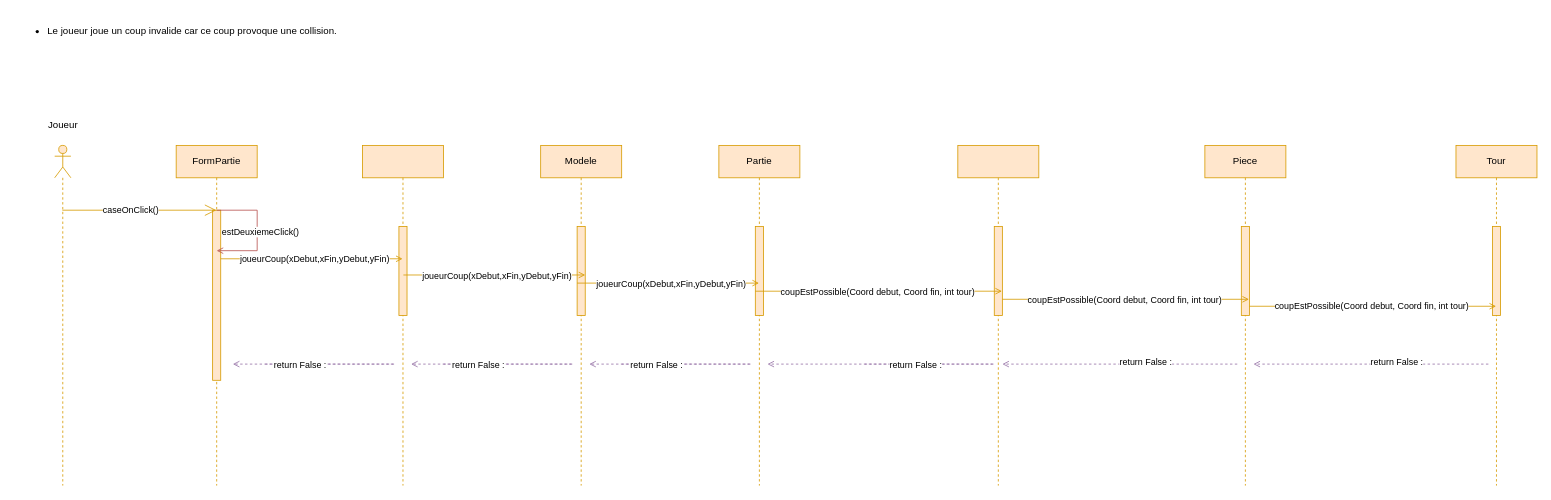
The diagram is 1551 pixels wide and 500 high, and some of its shapes have lost their labels. The centre of each missing label's shape, as x and y in pixels:
Jeu Echec: the point at 402,315
Plateau: the point at 998,315
